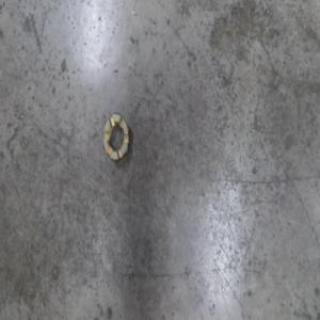Nuttrack_idkeyframe: (100, 109, 131, 163)
